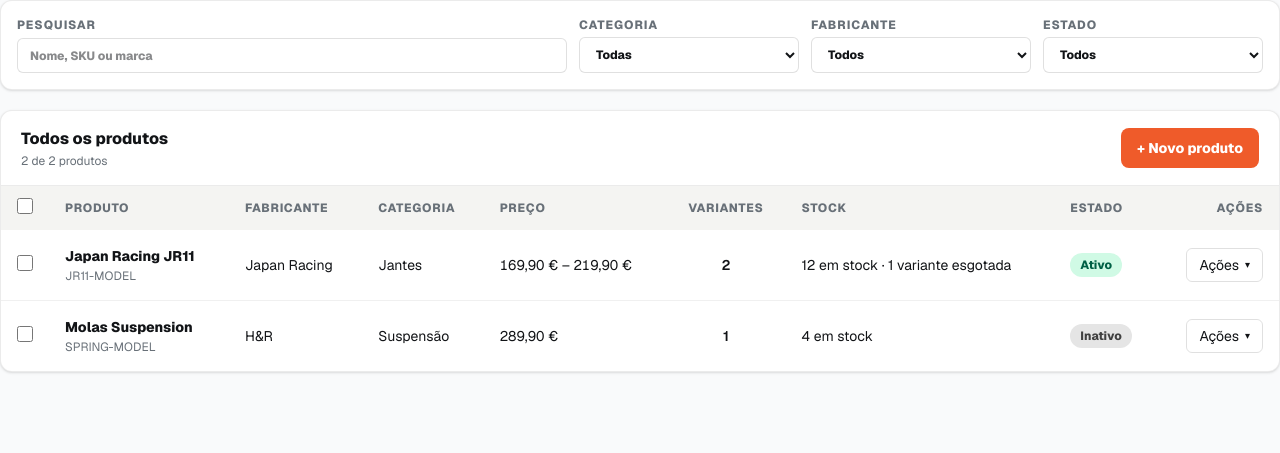
Test: ProductsClient › seleciona apenas os produtos visíveis e permite limpar a seleção
This screenshot has width=1280, height=453.
Check: the heading "Todos os produtos" is shown, box [21,127,168,151]
Click the checkbox named "Selecionar todos os produtos visíveis" at (25, 206), box [17,198,33,214]
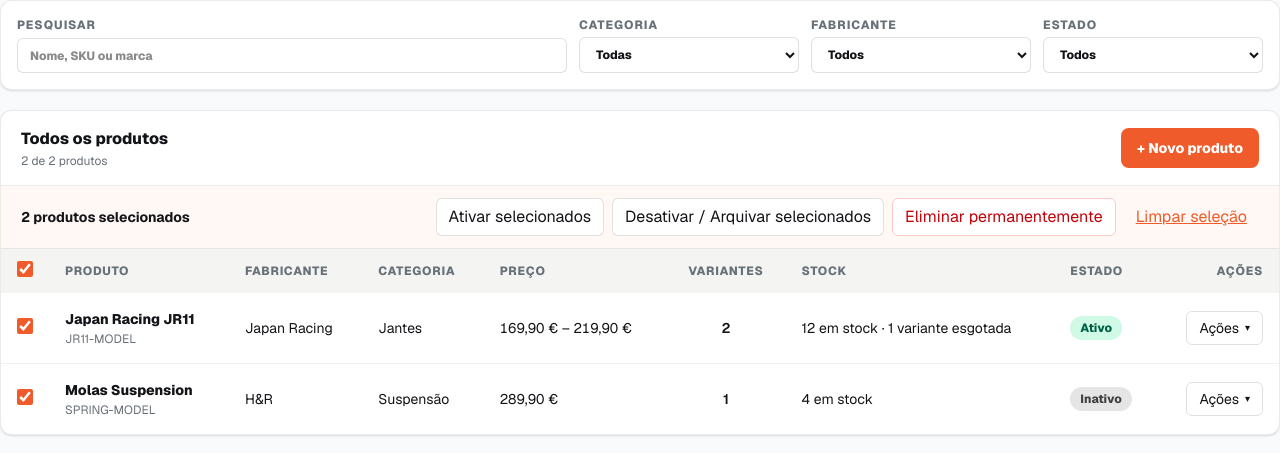
Check: the text "2 produtos selecionados" is shown, box [21,207,190,227]
Check: the checkbox named "Selecionar Japan Racing JR11" is checked, box [17,318,33,334]
Check: the checkbox named "Selecionar Molas Suspension" is checked, box [17,388,33,404]
Type "Molas" into the search field labelled "Pesquisar" at (292, 56), box [17,38,567,73]
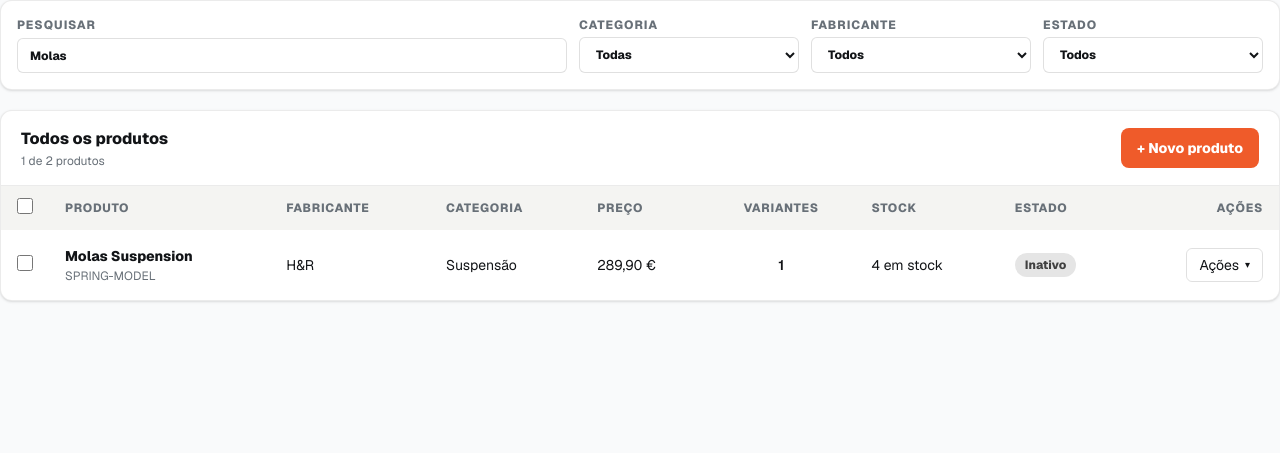
Check: the text "2 produtos selecionados" is gone
Check: the checkbox named "Selecionar Molas Suspension" is not checked, box [17,254,33,270]
